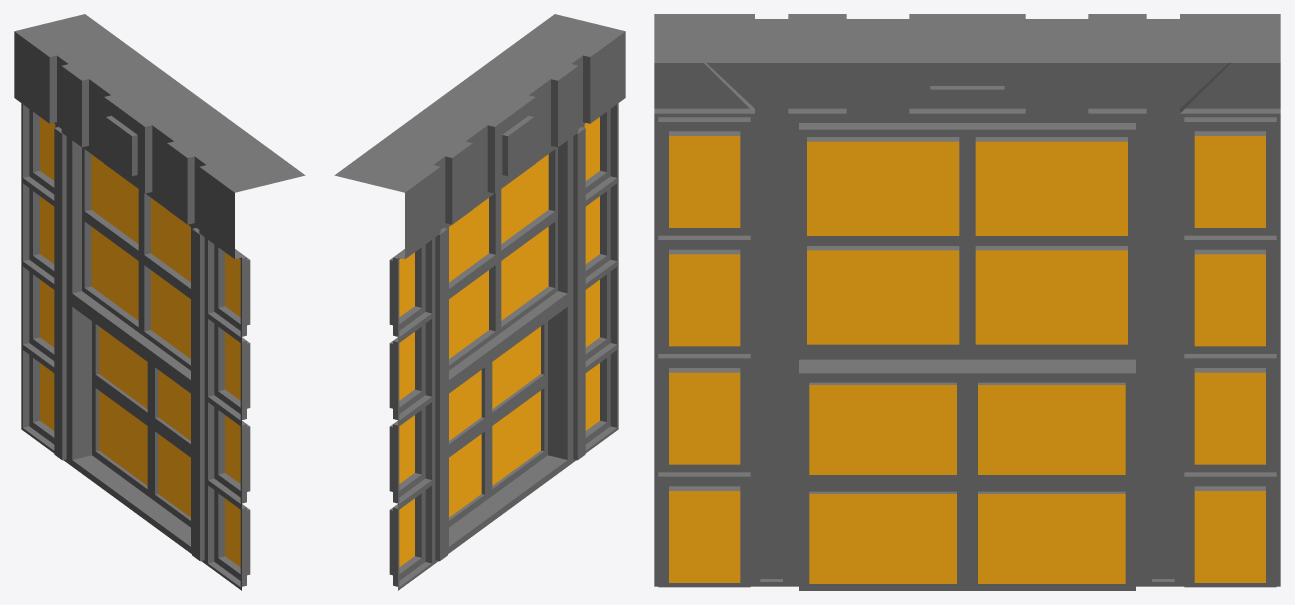
The model's file is O_Facade_Grande_Fenetre_Riche.fbx.
The picture shows the model from 3 angles, left to right: view 1: azimuth 30°, elevation 25°; view 2: azimuth 150°, elevation 25°; view 3: azimuth 270°, elevation 25°; orthographic projection. The views are drawn at different scales.
Visible parts, largest first — view 1: O_Facade_Grande_Fenetre_Riche; view 2: O_Facade_Grande_Fenetre_Riche; view 3: O_Facade_Grande_Fenetre_Riche.
Part boxes in pixels (<box>): O_Facade_Grande_Fenetre_Riche: <box>14,14,305,590</box>; O_Facade_Grande_Fenetre_Riche: <box>334,14,625,590</box>; O_Facade_Grande_Fenetre_Riche: <box>654,14,1280,590</box>.
Bounding box in the file's own units: 0.6 × 3 × 3.
